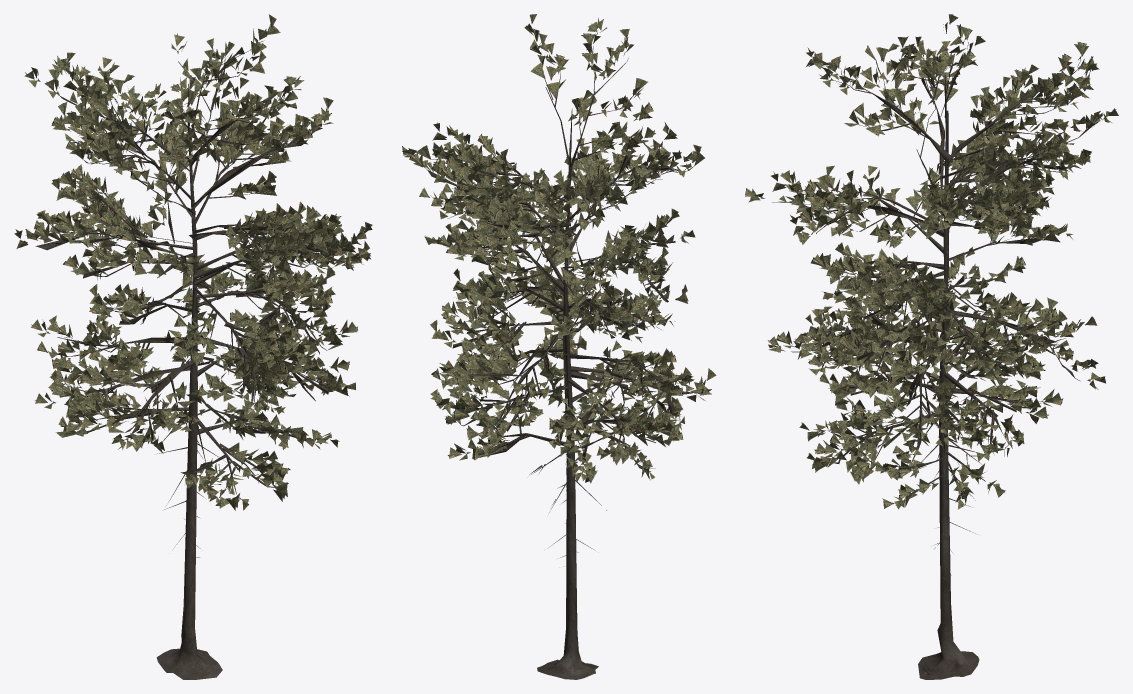
The model's file is pine.glb.
The picture shows the model from 3 angles, left to right: view 1: azimuth 30°, elevation 25°; view 2: azimuth 150°, elevation 25°; view 3: azimuth 270°, elevation 25°; orthographic projection. The views are drawn at different scales.
Visible parts, largest first — view 1: pine_tree_01_b_LOD2; view 2: pine_tree_01_b_LOD2; view 3: pine_tree_01_b_LOD2.
Boxes of the visible parts, bbox=[...] form: pine_tree_01_b_LOD2: bbox=[14, 14, 372, 679]; pine_tree_01_b_LOD2: bbox=[402, 14, 716, 679]; pine_tree_01_b_LOD2: bbox=[745, 14, 1118, 679].
Size of the model in its own units: 7.12 by 14.87 by 7.57.
4 materials, 4 textured.
